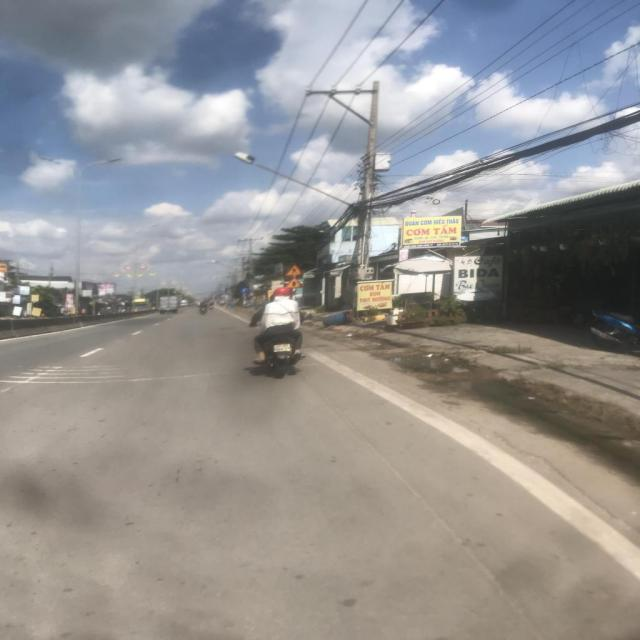cho_quay_xe: (241, 288, 250, 294)
chu_y_nguoi_di_bo_cat_ngang: (284, 264, 304, 276)
giao_nhau_voi_duong_khong_uu_tien: (285, 276, 304, 289)
